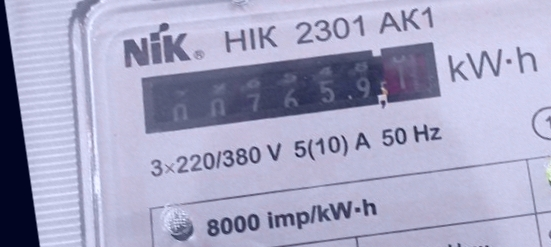0: (206, 95, 229, 122), (169, 99, 190, 127)
1: (393, 61, 411, 95)
5: (314, 77, 340, 106)
6: (279, 85, 301, 112)
7: (242, 90, 266, 118)
9: (352, 74, 374, 103)
screen: (127, 23, 454, 157)
